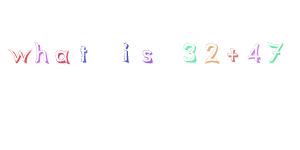+: (226, 48, 239, 63)
2: (203, 42, 220, 64)
3: (182, 42, 197, 62)
4: (246, 42, 262, 63)
7: (267, 41, 283, 64)
a: (54, 48, 70, 63)
h: (33, 40, 49, 63)
i: (121, 41, 131, 62)
s: (141, 48, 154, 64)
t: (78, 44, 88, 63)
w: (7, 47, 30, 63)
